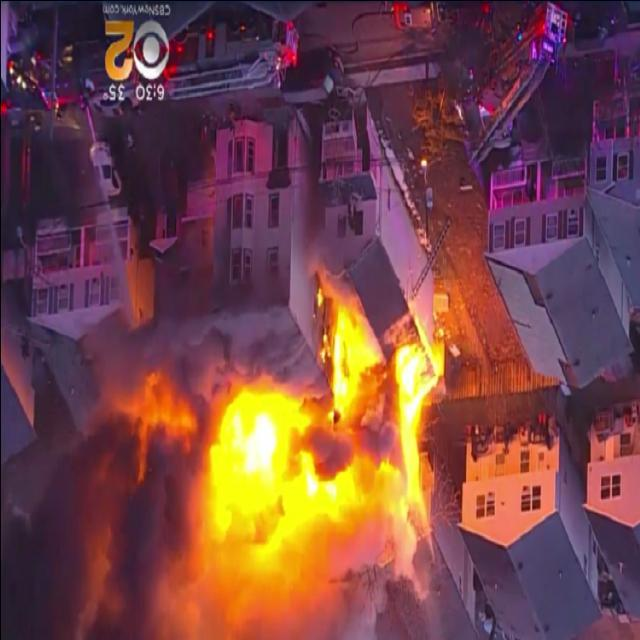Fire: (183, 296, 461, 560)
